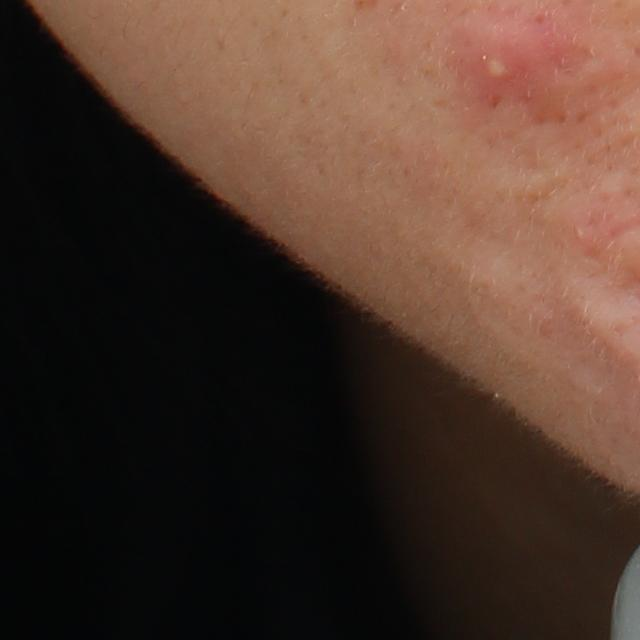pustule: (442, 8, 568, 108)
